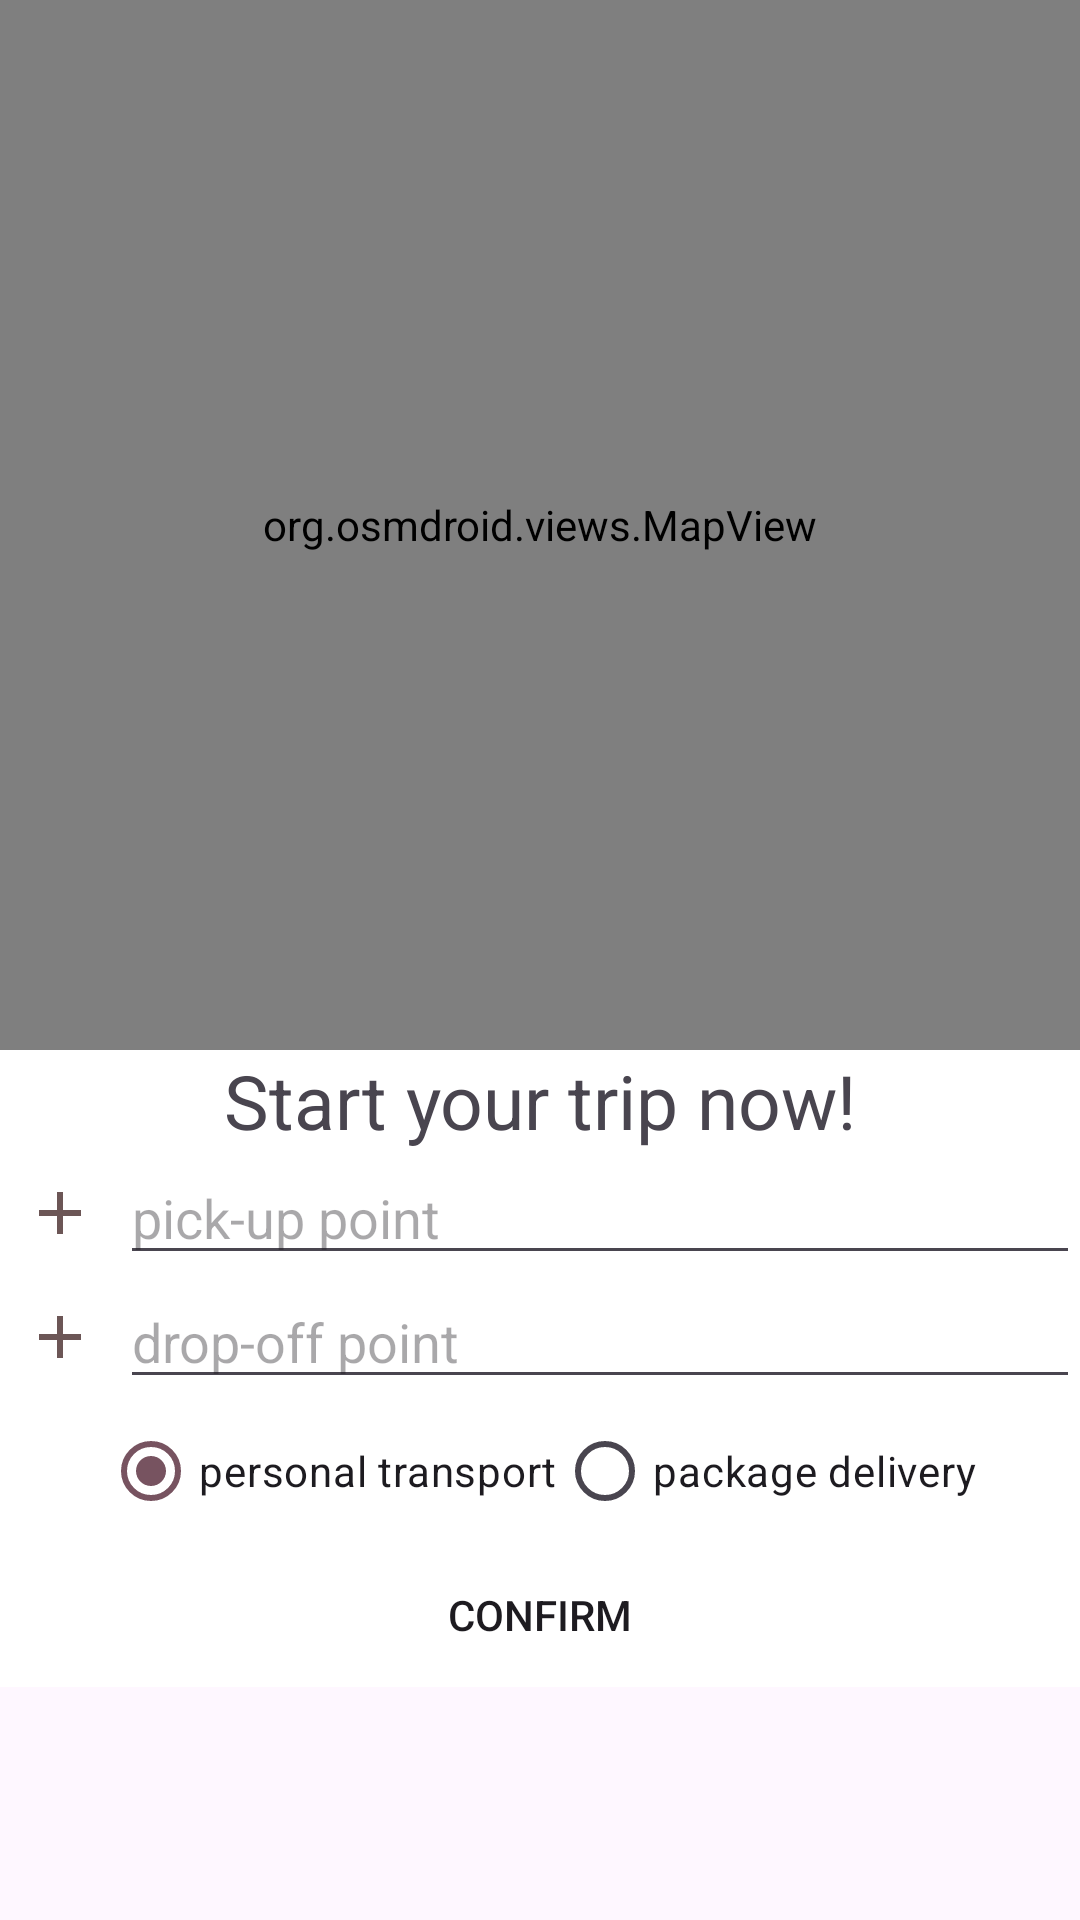

Point at icon controls on the screen. Image size 1080×1920, points as (x,y).
add: (60,1213), (60,1337)
